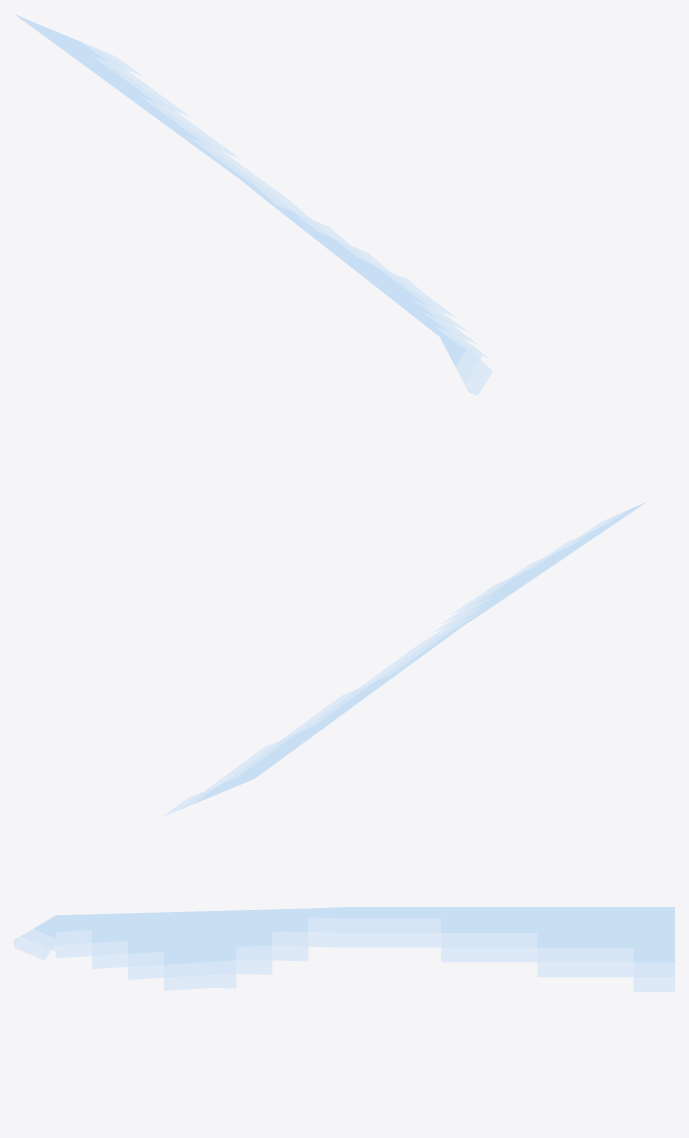
3 renders of one model, top to bottom at view 1: azimuth 30°, elevation 25°; view 2: azimuth 150°, elevation 25°; view 3: azimuth 270°, elevation 25°, orthographic. The views are drawn at different scales.
Bounding box in the file's own units: 0.3301 × 0.2081 × 1.
Materials: 1 (1 with a texture image).
